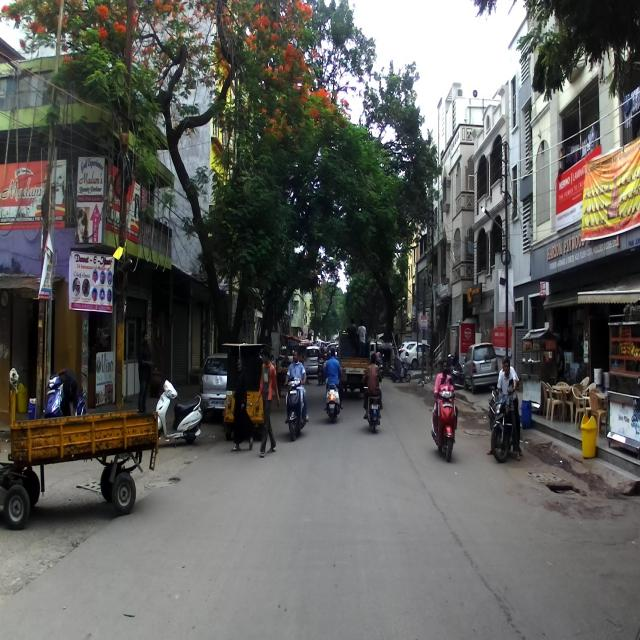autorickshaw: (222, 342, 275, 440)
car: (464, 339, 498, 392)
motorcycle: (486, 377, 516, 463), (364, 376, 383, 432)
scooter: (154, 372, 204, 444), (430, 381, 458, 464), (283, 376, 308, 440), (324, 378, 342, 421)
